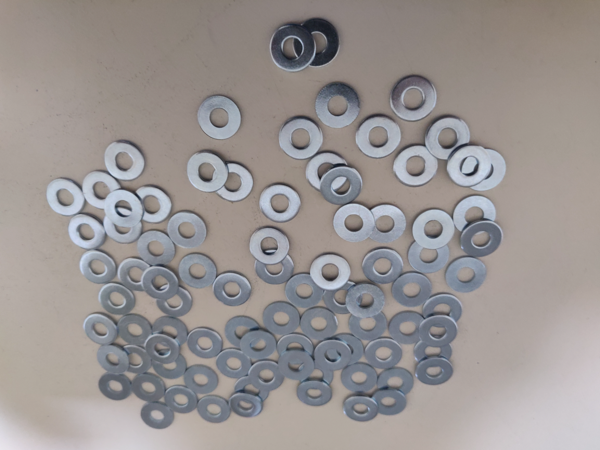circle: (389, 74, 438, 122), (269, 25, 317, 72), (295, 19, 340, 67), (355, 115, 402, 160), (406, 209, 456, 251), (315, 83, 361, 128), (197, 94, 242, 140), (391, 145, 437, 189), (426, 117, 471, 161), (447, 143, 492, 187), (279, 117, 323, 161), (461, 149, 507, 191), (452, 196, 498, 237), (360, 246, 406, 287), (458, 220, 505, 259), (365, 202, 408, 244), (305, 153, 348, 194), (332, 202, 375, 243), (188, 152, 230, 193), (387, 309, 430, 349), (444, 256, 489, 294), (389, 272, 435, 309), (212, 163, 253, 203), (259, 183, 300, 223), (105, 142, 146, 182), (310, 252, 351, 292), (82, 171, 123, 210), (321, 166, 363, 204), (98, 207, 141, 244), (46, 177, 85, 217), (103, 190, 144, 228), (408, 238, 449, 276), (417, 313, 461, 348), (248, 228, 290, 264), (135, 230, 177, 266), (345, 283, 387, 319), (284, 274, 326, 310), (297, 306, 339, 342), (253, 250, 295, 286), (67, 212, 106, 250), (168, 212, 208, 249), (261, 300, 301, 337), (141, 264, 180, 301), (422, 295, 464, 329), (134, 187, 172, 224), (179, 252, 217, 288), (323, 282, 363, 316), (363, 337, 404, 370), (213, 273, 252, 307), (152, 316, 191, 350), (376, 367, 417, 399), (117, 314, 153, 350), (155, 284, 193, 318), (248, 360, 287, 393), (415, 357, 456, 388), (348, 311, 389, 342), (80, 249, 116, 284), (371, 388, 410, 420), (233, 375, 272, 407), (413, 339, 454, 369), (83, 312, 118, 347), (118, 259, 155, 292), (278, 350, 315, 383), (279, 331, 316, 364), (165, 384, 201, 417), (216, 349, 253, 381), (98, 285, 136, 316), (341, 363, 379, 394), (315, 340, 353, 371), (223, 318, 261, 349), (98, 370, 132, 404), (144, 334, 181, 365), (327, 334, 364, 365), (240, 331, 278, 361), (95, 344, 131, 375), (187, 329, 224, 359), (149, 353, 188, 381), (118, 345, 153, 376), (184, 365, 219, 396), (139, 401, 175, 431), (343, 395, 380, 424), (300, 359, 337, 387), (297, 381, 333, 409), (132, 375, 167, 403), (196, 397, 232, 424), (227, 393, 264, 418)
